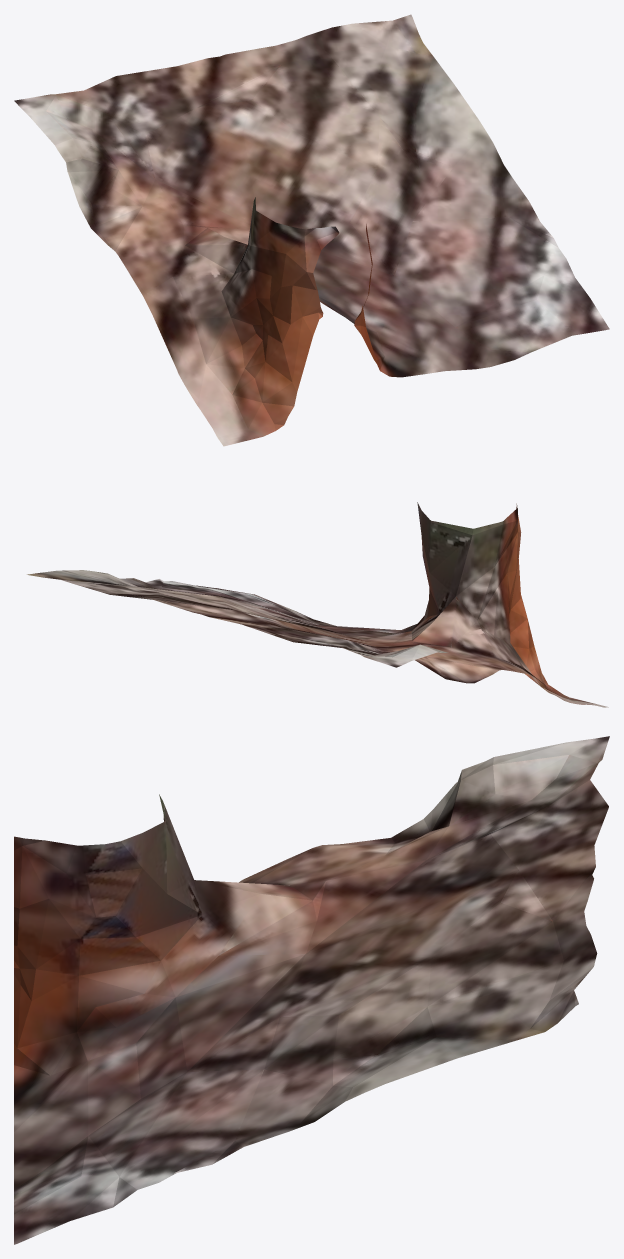
3 views of the same model, one above another, from view 1: azimuth 30°, elevation 25°; view 2: azimuth 150°, elevation 25°; view 3: azimuth 270°, elevation 25° (orthographic). The views are drawn at different scales.
Size of the model in its own units: 0.8373 by 0.3986 by 0.7869.
Materials: 3 (3 with a texture image).
